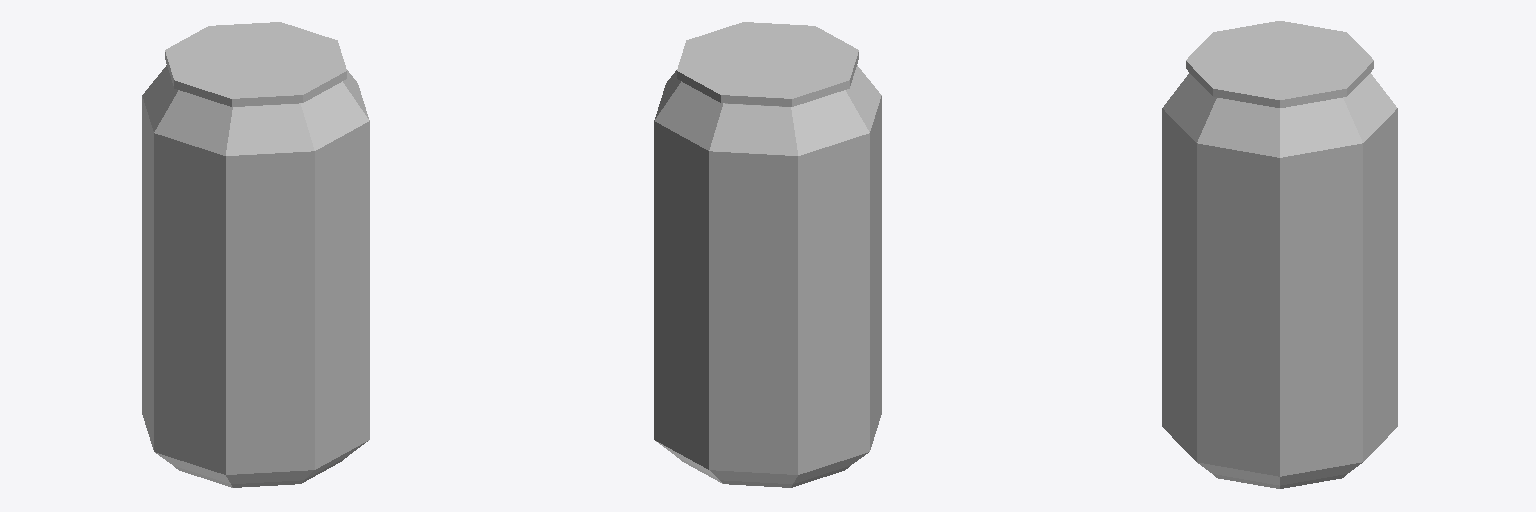
File: soda_can.obj
3 views of the same model, side by side, from view 1: azimuth 30°, elevation 25°; view 2: azimuth 150°, elevation 25°; view 3: azimuth 270°, elevation 25° (orthographic).
Visible parts, largest first — view 1: soda_can; view 2: soda_can; view 3: soda_can.
Boxes of the visible parts, <box> form: soda_can: <box>142,22,369,487</box>; soda_can: <box>654,22,881,487</box>; soda_can: <box>1162,21,1397,488</box>.
Size of the model in its own units: 2 by 3.66 by 2.